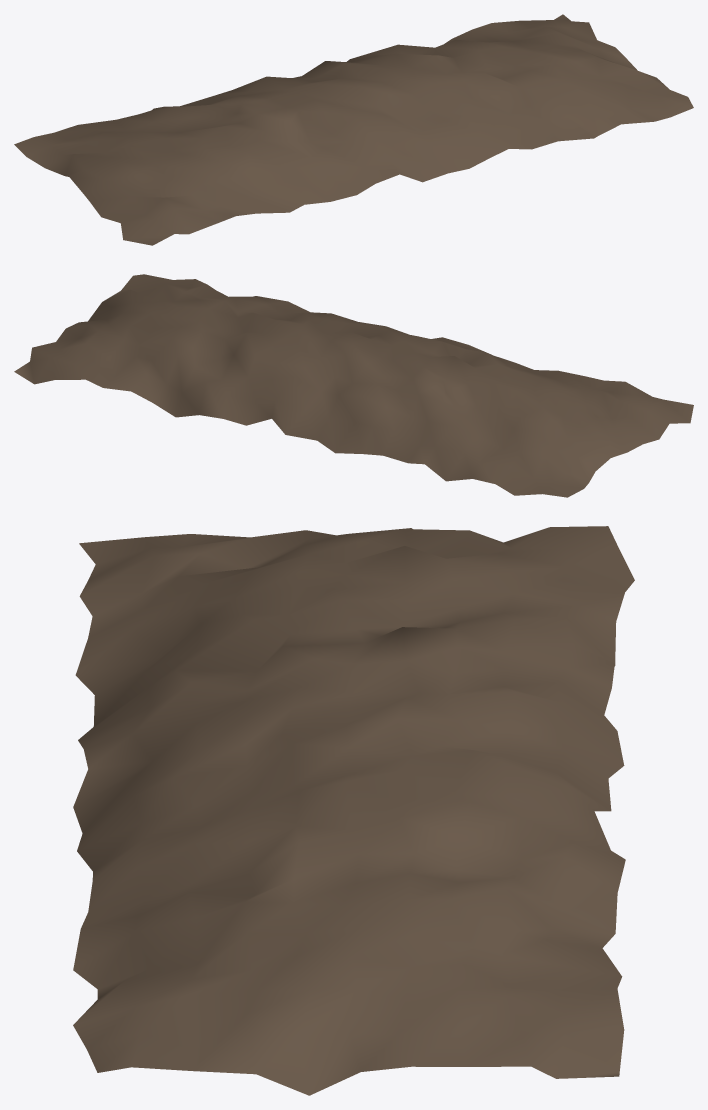
The model's file is turned_ground.glb.
The picture shows the model from 3 angles, top to bottom: view 1: azimuth 30°, elevation 25°; view 2: azimuth 150°, elevation 25°; view 3: azimuth 270°, elevation 25°; orthographic projection. The views are drawn at different scales.
Parts seen in each view (by area): view 1: turned_ground; view 2: turned_ground; view 3: turned_ground.
Part boxes in pixels (x1,y1,x2,y2): turned_ground: (14,14,693,245); turned_ground: (14,274,693,497); turned_ground: (73,526,634,1095).
Size of the model in its own units: 2.45 by 0.2155 by 1.06.
